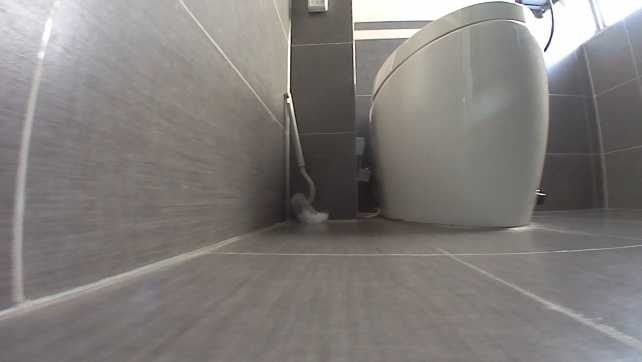toilet: (361, 0, 556, 231)
